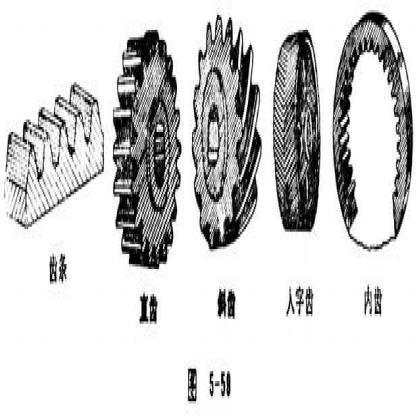FOD: (331, 5, 415, 254), (108, 4, 182, 278), (191, 10, 265, 264), (272, 18, 322, 244)
